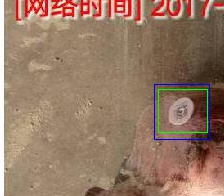text: (158, 89, 207, 132)
